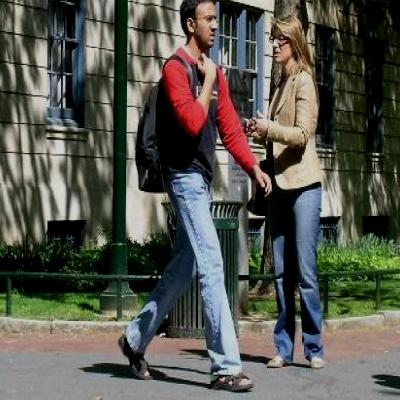ped: (121, 1, 274, 389), (249, 16, 327, 369)
